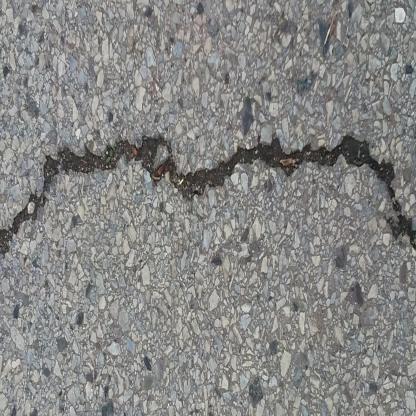Cracks: (0, 133, 416, 298)
